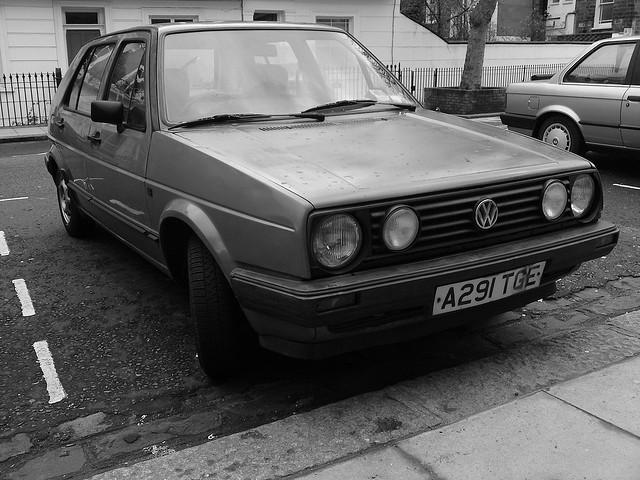car: (47, 21, 620, 382)
